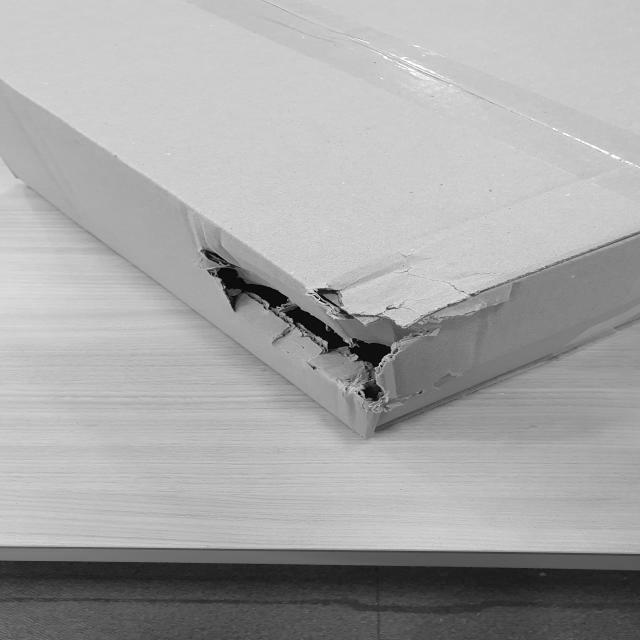hole: (198, 240, 412, 417)
